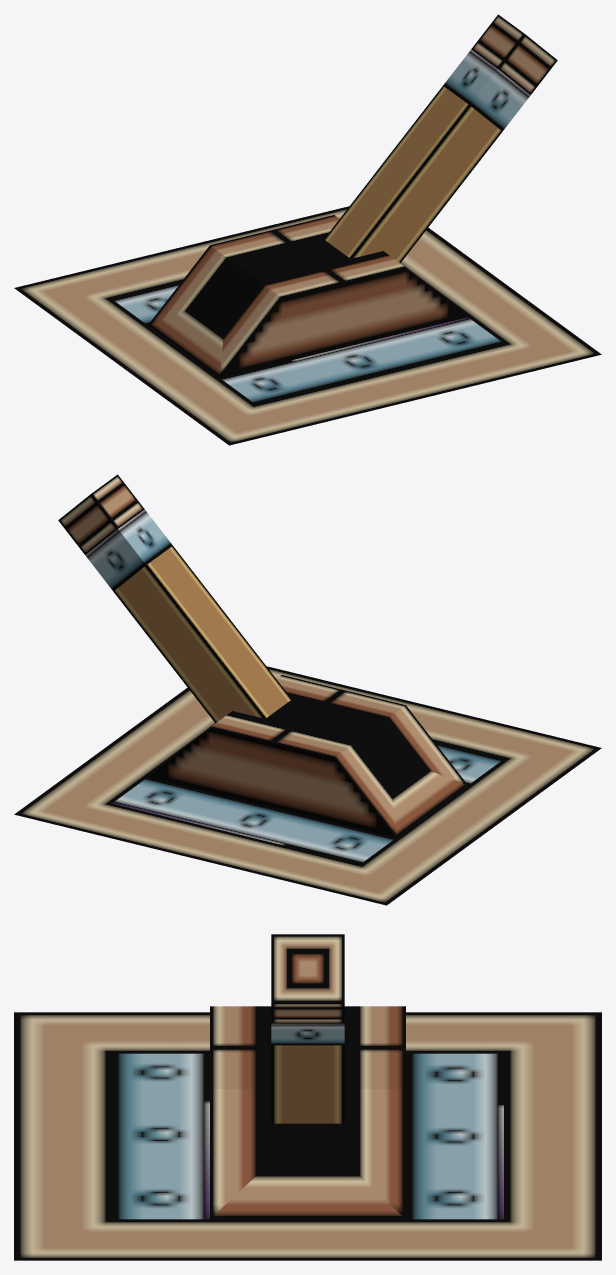
The model's file is deco_lever_3.FBX.
3 views of the same model, one above another, from view 1: azimuth 30°, elevation 25°; view 2: azimuth 150°, elevation 25°; view 3: azimuth 270°, elevation 25° (orthographic). The views are drawn at different scales.
Visible parts, largest first — view 1: deco_lever_3; view 2: deco_lever_3; view 3: deco_lever_3.
Boxes of the visible parts, x1,y1,x2,y2 form: deco_lever_3: (14,14,601,445); deco_lever_3: (14,474,601,905); deco_lever_3: (14,934,601,1260).
Size of the model in its own units: 1.7 by 1.07 by 1.5.
1 material, 1 textured.
